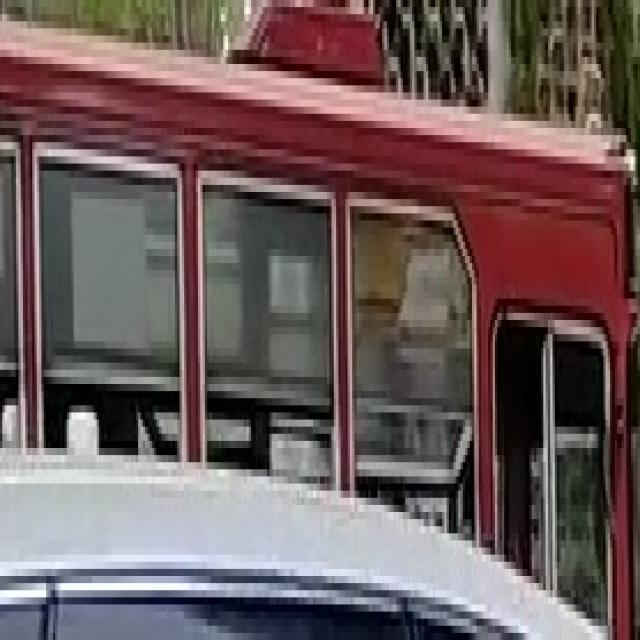door: (490, 299, 612, 633)
tyre: (0, 0, 638, 633)
